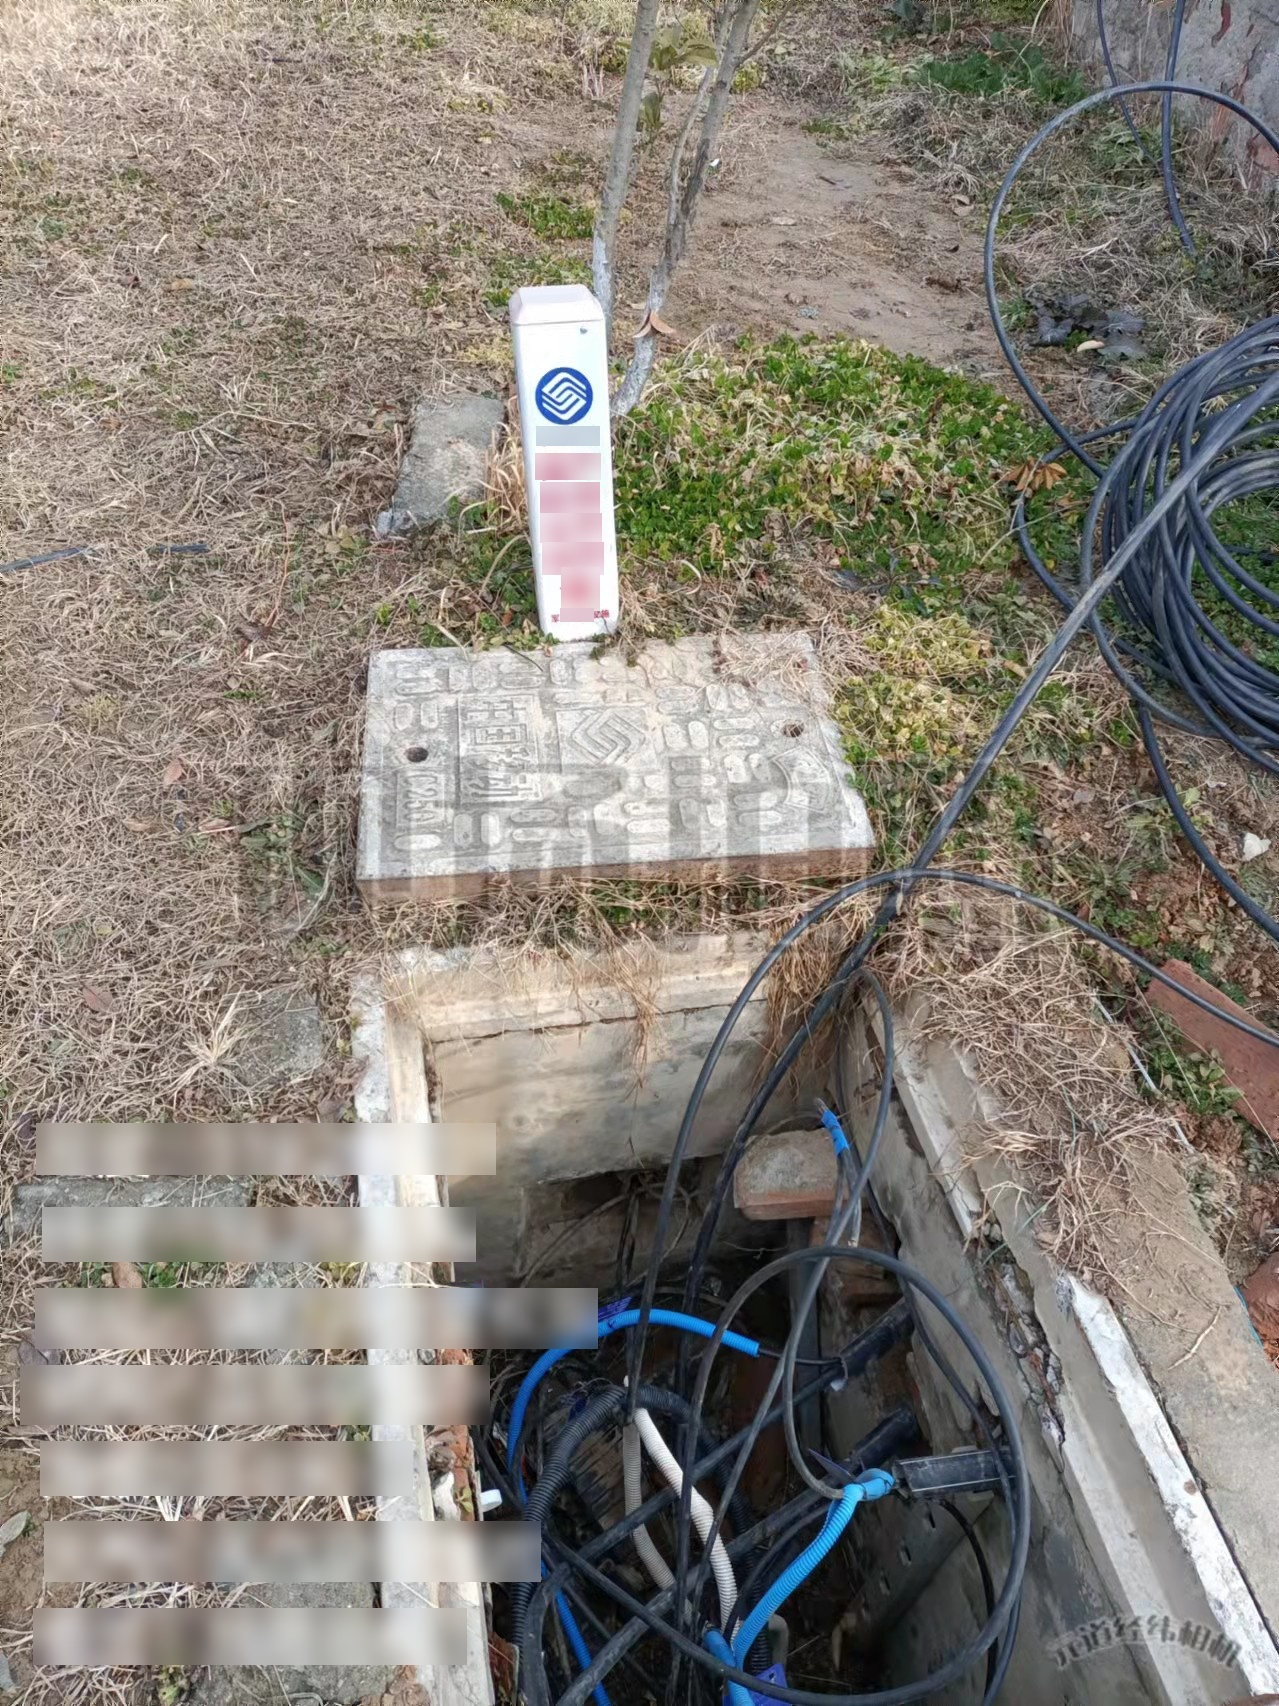lose: (343, 930, 1272, 1706)
